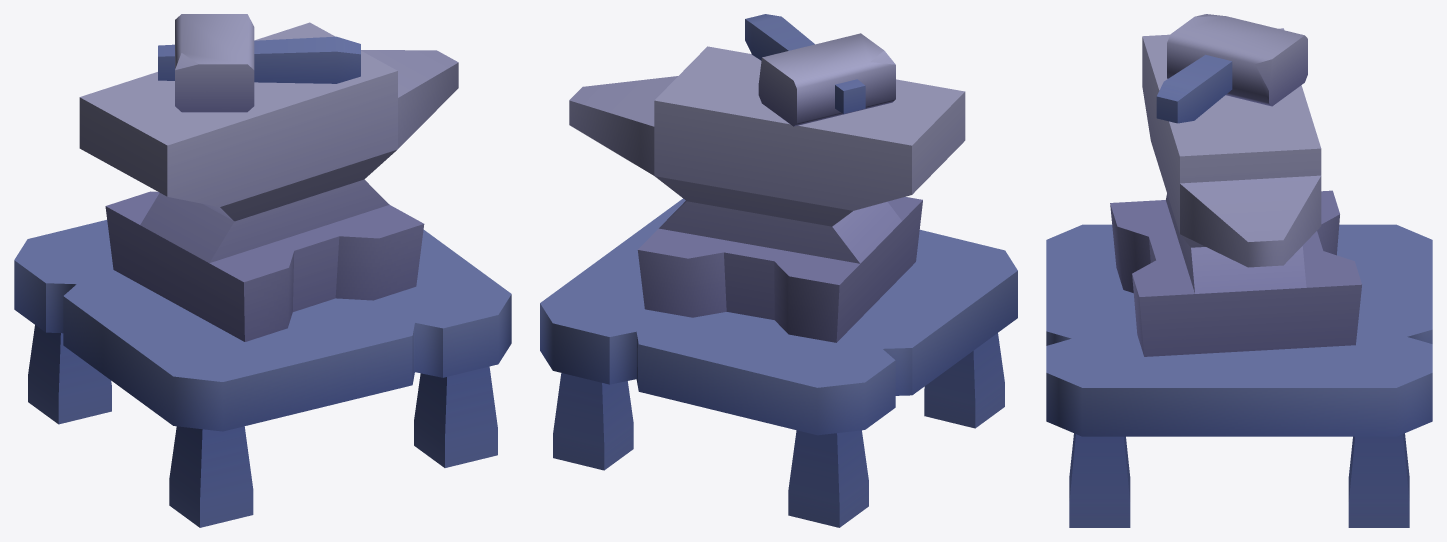
Rendered from workbench-anvil.glb.
3 views of the same model, side by side, from view 1: azimuth 30°, elevation 25°; view 2: azimuth 150°, elevation 25°; view 3: azimuth 270°, elevation 25° (orthographic). The views are drawn at different scales.
Visible parts, largest first — view 1: workbench-anvil, hammer; view 2: workbench-anvil, hammer; view 3: workbench-anvil, hammer.
Boxes of the visible parts, x1,y1,x2,y2 form: workbench-anvil: (14,22,511,527); hammer: (158,14,360,112); workbench-anvil: (540,46,1017,527); hammer: (745,14,895,126); workbench-anvil: (1046,28,1432,527); hammer: (1156,14,1307,123).
Size of the model in its own units: 0.3227 by 0.3357 by 0.2957.
1 material, 1 textured.
